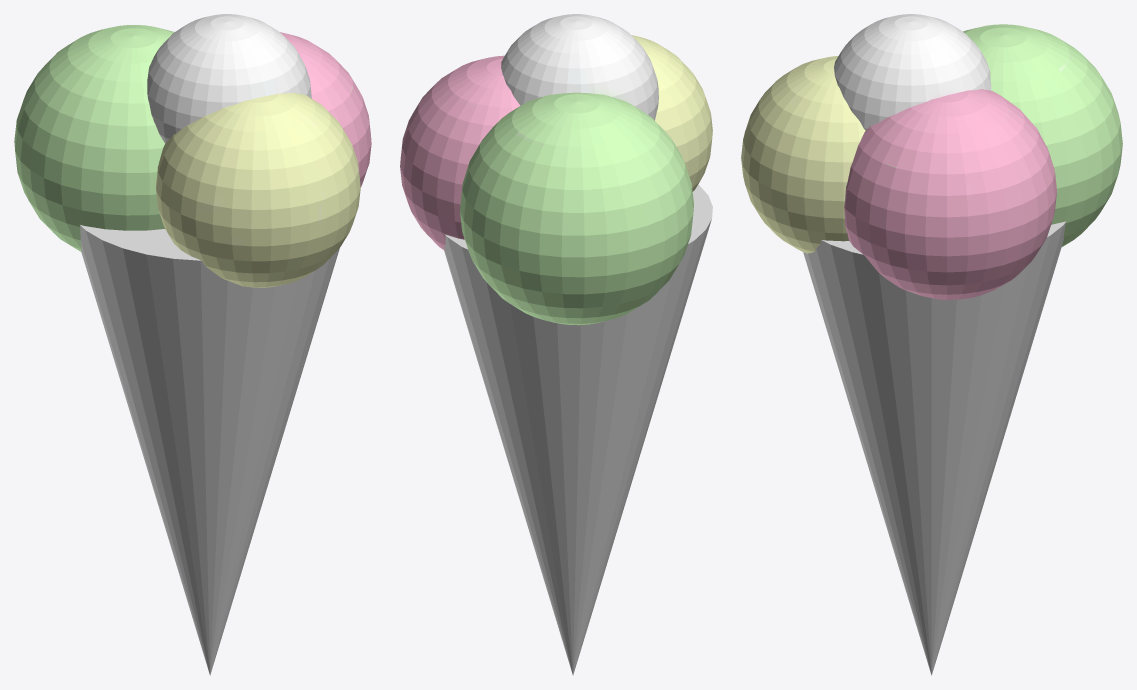
Rendered from IceCream.fbx.
The picture shows the model from 3 angles, left to right: view 1: azimuth 30°, elevation 25°; view 2: azimuth 150°, elevation 25°; view 3: azimuth 270°, elevation 25°; orthographic projection. The views are drawn at different scales.
Visible parts, largest first — view 1: Sphere; view 2: Sphere; view 3: Sphere.
Part boxes in pixels (x1,y1,x2,y2): Sphere: (14,14,371,675); Sphere: (400,14,712,675); Sphere: (741,14,1122,675).
Size of the model in its own units: 240 by 508 by 267.
